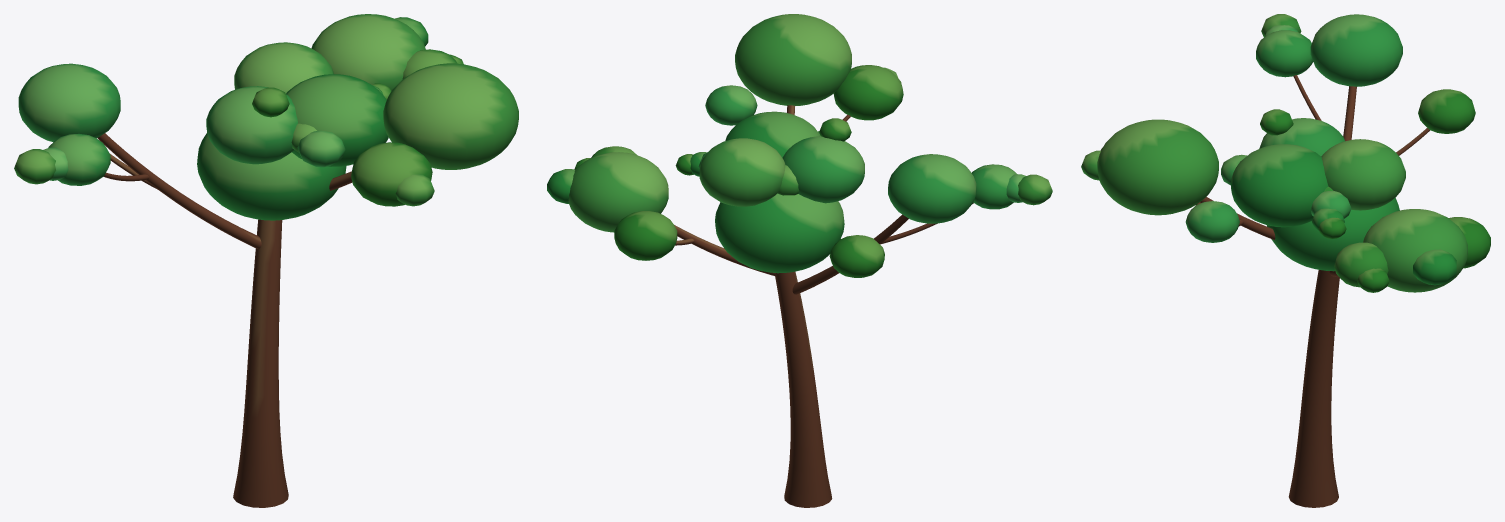
Rendered from acacia-tree-110.obj.
3 views of the same model, side by side, from view 1: azimuth 30°, elevation 25°; view 2: azimuth 150°, elevation 25°; view 3: azimuth 270°, elevation 25° (orthographic). The views are drawn at different scales.
Visible parts, largest first — view 1: tree; view 2: tree; view 3: tree.
Boxes of the visible parts, x1,y1,x2,y2 form: tree: (14,14,518,507); tree: (547,14,1052,507); tree: (1081,14,1490,507).
Size of the model in its own units: 483 by 430 by 384.
